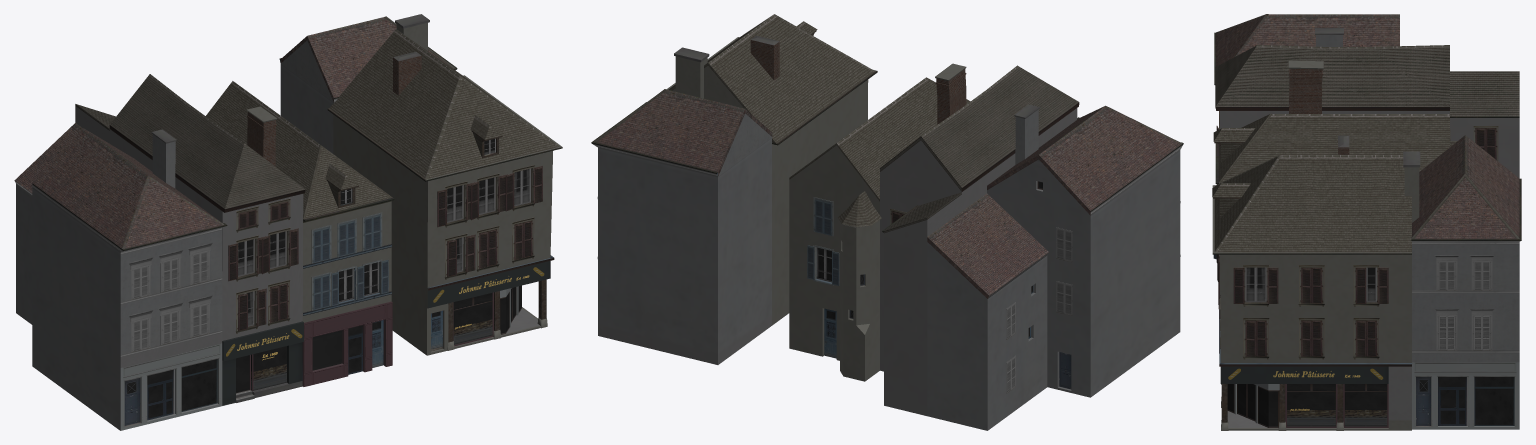
The model's file is troyes_shop_7_france.glb.
The picture shows the model from 3 angles, left to right: view 1: azimuth 30°, elevation 25°; view 2: azimuth 150°, elevation 25°; view 3: azimuth 270°, elevation 25°; orthographic projection.
Visible parts, largest first — view 1: sketchfab.001_14_0; view 2: sketchfab.001_14_0; view 3: sketchfab.001_14_0.
Boxes of the visible parts, box(x1,y1,x2,y2) form: sketchfab.001_14_0: box(14, 14, 562, 430); sketchfab.001_14_0: box(591, 14, 1183, 430); sketchfab.001_14_0: box(1212, 14, 1521, 430).
Size of the model in its own units: 2584 by 1397 by 1552.
1 material, 1 textured.
